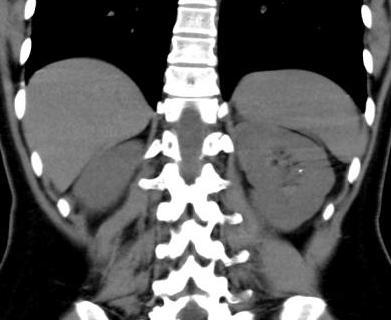Tas_Var: (296, 168, 304, 175)
